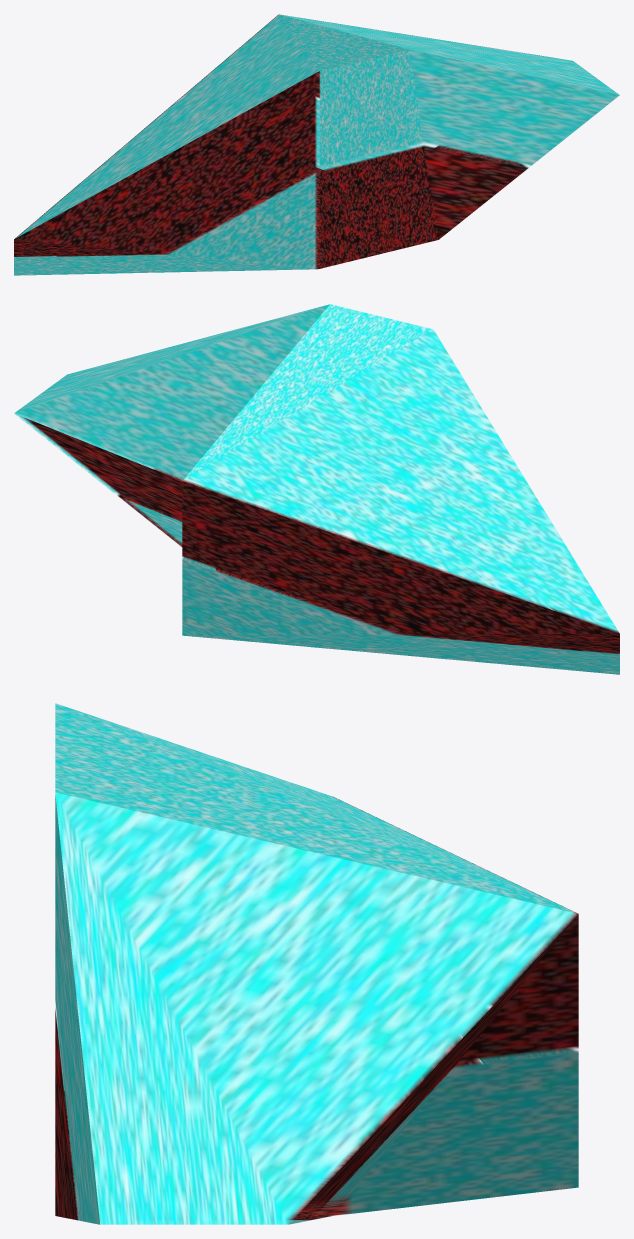
The picture shows the model from 3 angles, top to bottom: view 1: azimuth 30°, elevation 25°; view 2: azimuth 150°, elevation 25°; view 3: azimuth 270°, elevation 25°; orthographic projection. The views are drawn at different scales.
Visible parts, largest first — view 1: SM_VFX_LowPolyRock_LOD0; view 2: SM_VFX_LowPolyRock_LOD0; view 3: SM_VFX_LowPolyRock_LOD0.
Part boxes in pixels (left/top/right/bottom): SM_VFX_LowPolyRock_LOD0: left=14, top=14, right=619, bottom=275; SM_VFX_LowPolyRock_LOD0: left=14, top=304, right=619, bottom=674; SM_VFX_LowPolyRock_LOD0: left=55, top=703, right=578, bottom=1224.
Bounding box in the file's own units: 9.09 × 3.13 × 3.76.
1 material, 1 textured.
